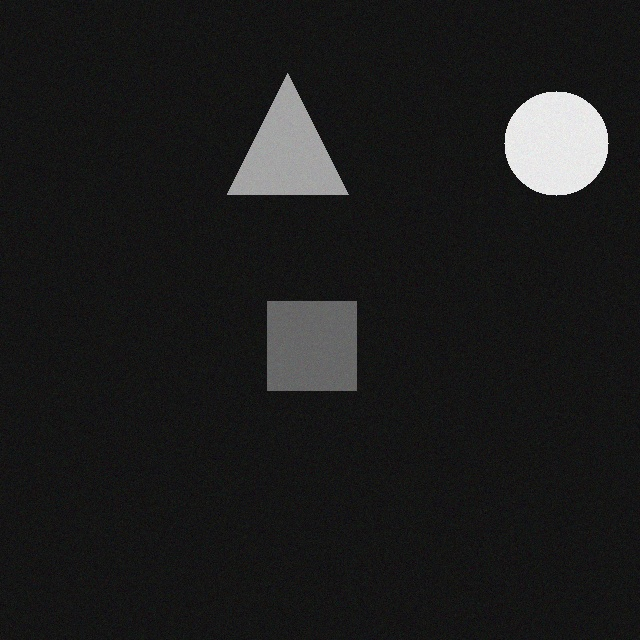circle: (499, 97, 603, 201)
square: (262, 307, 351, 396)
triangle: (222, 79, 343, 200)
